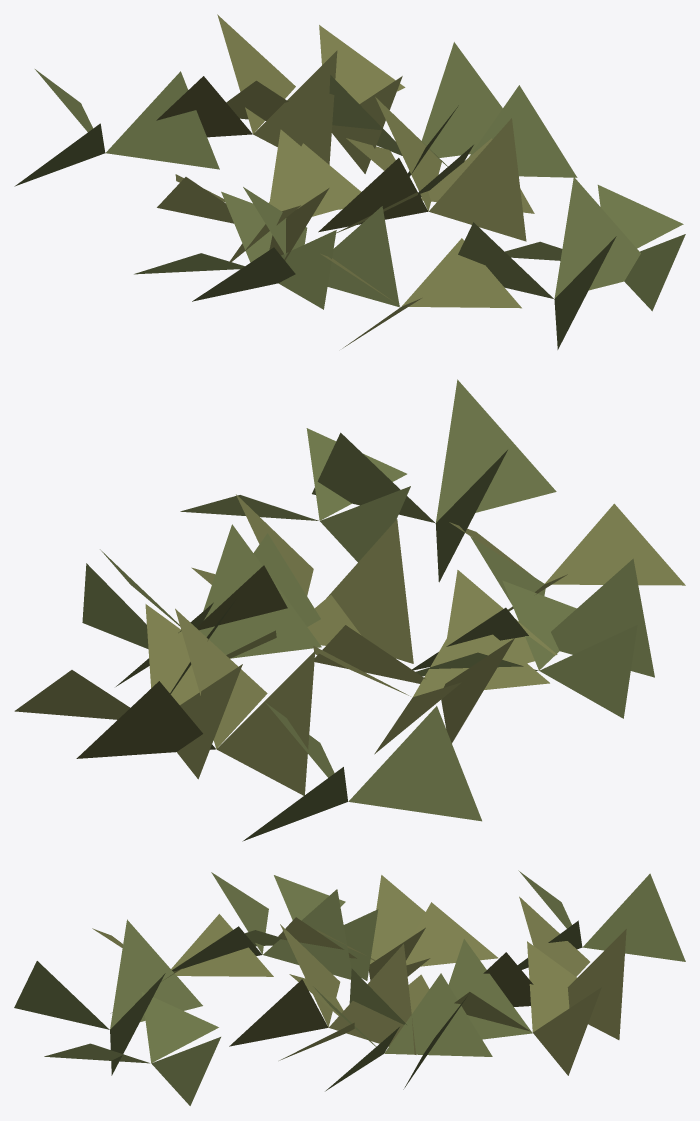
The model's file is taiga-sphagnum.glb.
3 renders of one model, top to bottom at view 1: azimuth 30°, elevation 25°; view 2: azimuth 150°, elevation 25°; view 3: azimuth 270°, elevation 25°, orthographic. The views are drawn at different scales.
Visible parts, largest first — view 1: Сфагнум; view 2: Сфагнум; view 3: Сфагнум.
Part boxes in pixels (x1=…): Сфагнум: x1=14, y1=14, x2=685, y2=349; Сфагнум: x1=14, y1=379, x2=685, y2=841; Сфагнум: x1=14, y1=870, x2=685, y2=1105.
Size of the model in its own units: 0.4437 by 0.08 by 0.6156.
